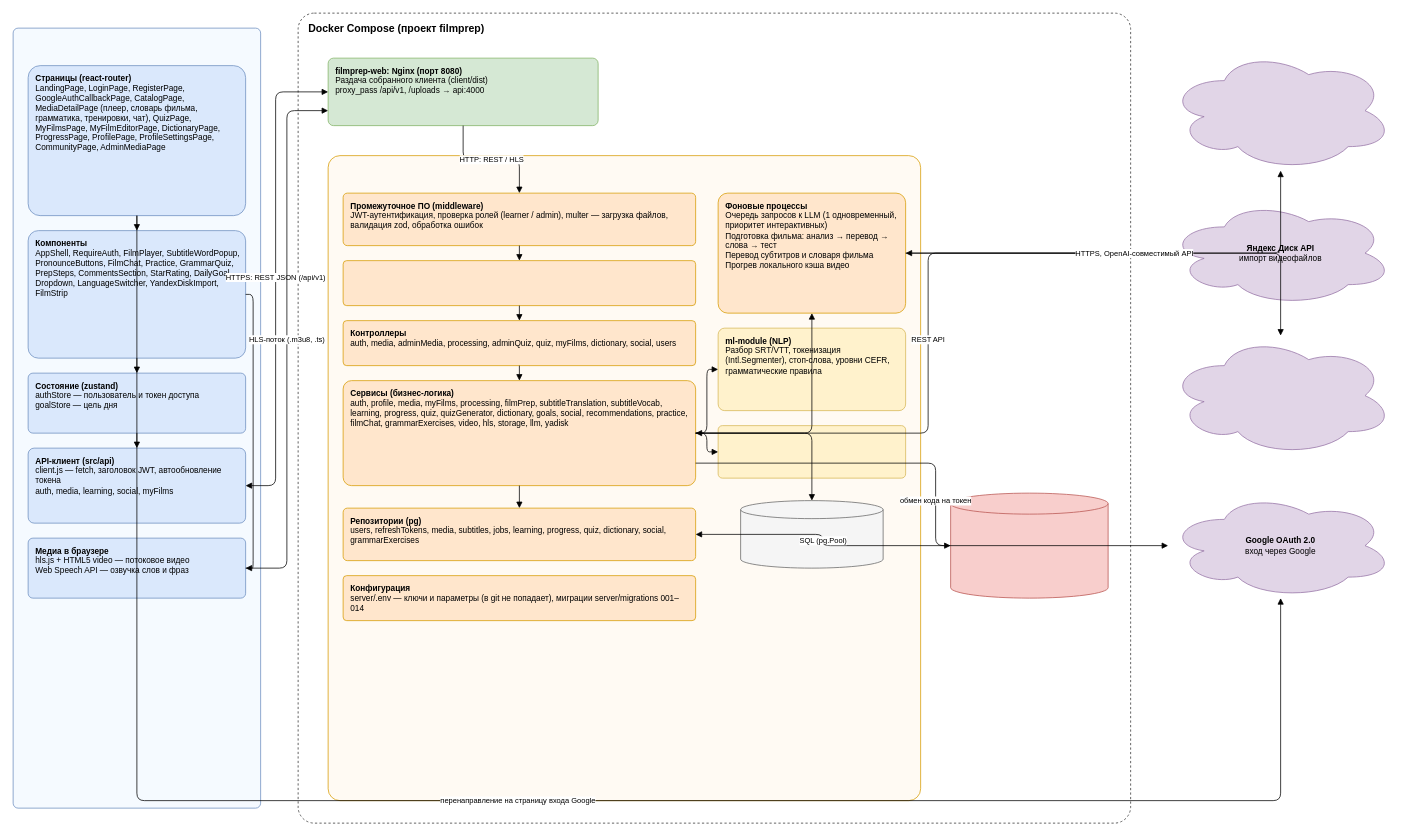
This 1406x836 diagram has some shape labels left out. The box of each missing label's shape, as (x1, y1, x2, y2) in pixels:
Backblaze B2 (S3-совместимое хранилище) HLS-видео, постеры, субтитры: (1167, 50, 1393, 171)
FFmpeg Перекодирование в HLS (несколько качеств), кадр-постер: (717, 425, 906, 478)
filmprep-api: Node.js 20 + Express (порт 4000): (327, 155, 921, 801)
filmprep-postgres PostgreSQL 16 порт 5432 (снаружи 5433) 20 таблиц: (950, 492, 1108, 598)
LiteRouter LLM llama-3.3-70b-instruct переводы, уровни, тесты, чат: (1167, 335, 1393, 456)
Браузер пользователя — клиент React SPA (Vite): (12, 27, 261, 808)
Локальный кэш uploads/ (HLS-сегменты, файлы): (740, 500, 883, 568)
Маршруты /api/v1 /auth, /media, /me, /admin, /users, /comments, /stream, /health: (342, 260, 696, 306)
